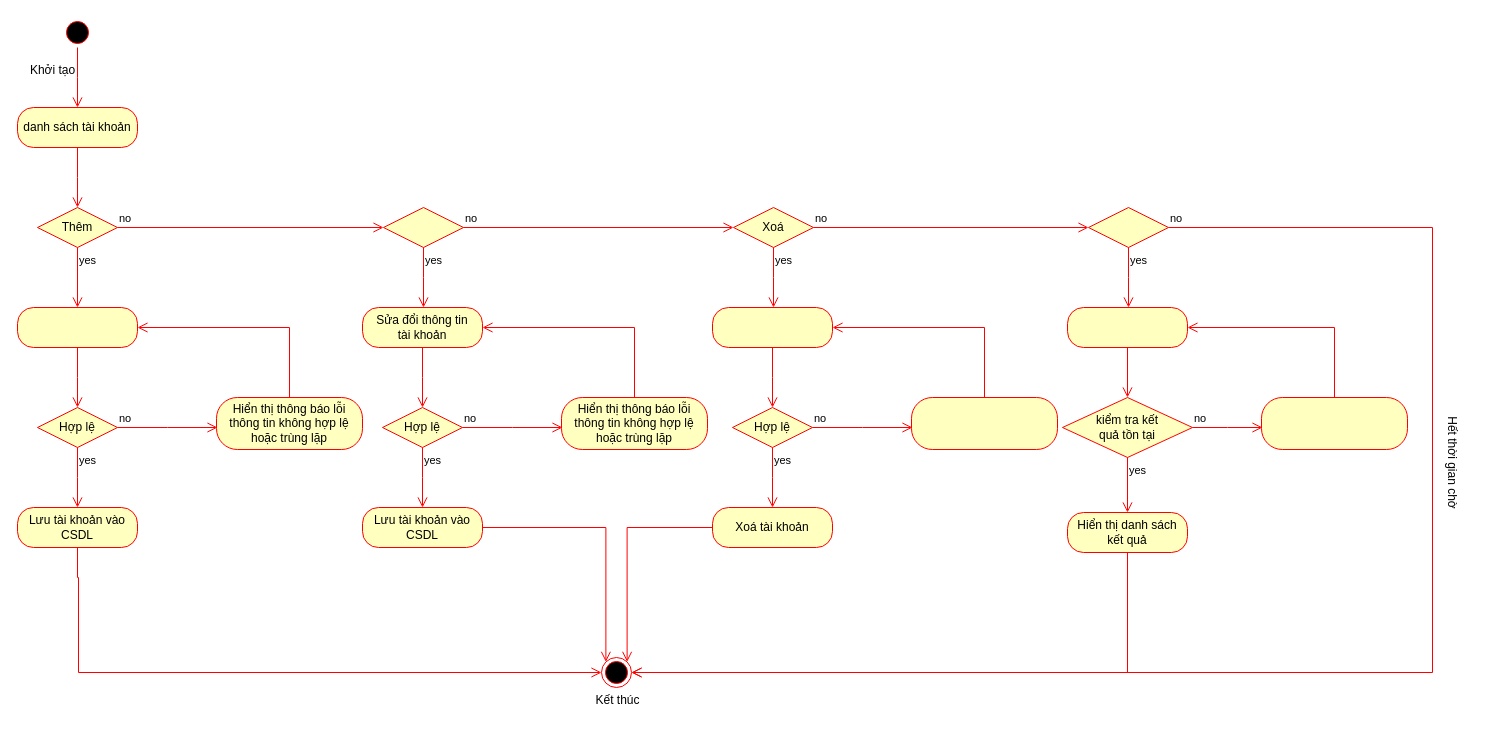
The diagram is 1485 pixels wide and 733 high, and some of its shapes have lost their labels. Here are the shapes that lost their labels. From the top down, the centre of each, then its label:
the point at 423,227: Sửa
the point at 1128,227: Tìm kiếm
the point at 77,327: Nhập thông tin tài khoản
the point at 772,327: Chọn tài khoản muốn xoá
the point at 1127,327: Nhập thông tin tìm kiếm
the point at 984,423: Hiển thị thông báo lỗi thông tin không hợp lệ
the point at 1334,423: Hiển thị thông báo không có kết quả
